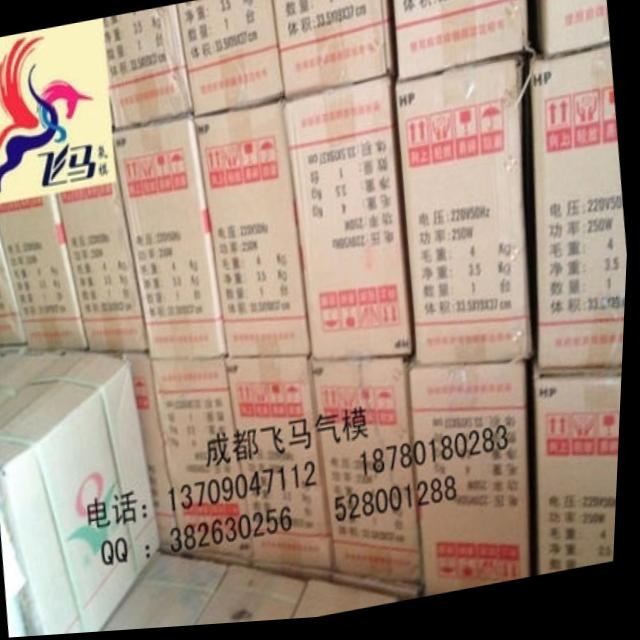box: (0, 349, 166, 637), (393, 59, 538, 371), (283, 80, 418, 361), (525, 51, 629, 374), (194, 100, 314, 359), (113, 115, 230, 361), (415, 370, 536, 601), (313, 360, 427, 603), (229, 358, 339, 584), (152, 361, 257, 570), (531, 374, 626, 582), (92, 352, 185, 555), (57, 181, 151, 354), (0, 194, 91, 349), (176, 0, 284, 120), (271, 0, 398, 101), (392, 0, 535, 86), (102, 6, 194, 130), (108, 550, 234, 633), (200, 567, 312, 628), (531, 0, 609, 66), (1, 481, 32, 638), (299, 580, 405, 623), (0, 223, 29, 346), (0, 354, 62, 411), (24, 346, 73, 357), (0, 346, 29, 358)
